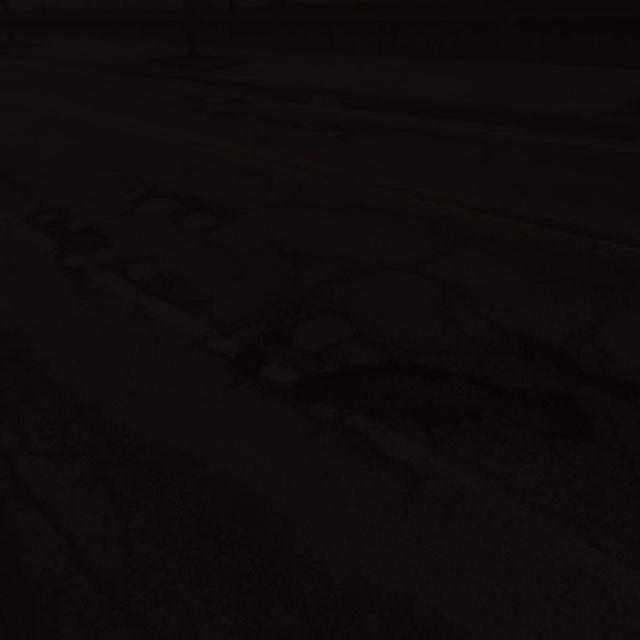Pothole: (289, 352, 595, 462), (127, 175, 241, 248), (32, 219, 128, 282), (280, 300, 378, 360)
